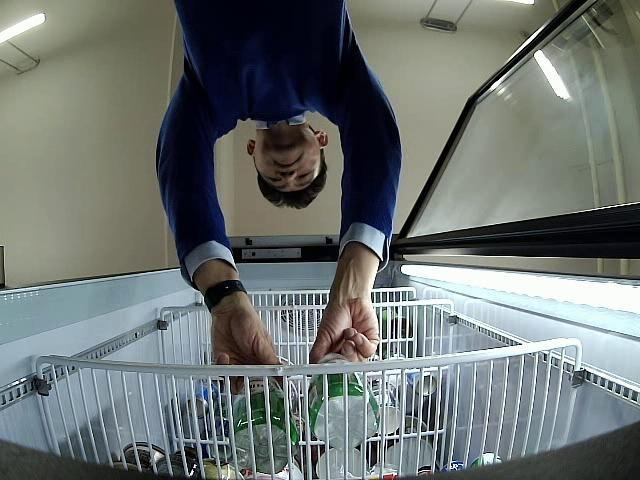18_trevi: (309, 354, 380, 450), (233, 376, 300, 472)
